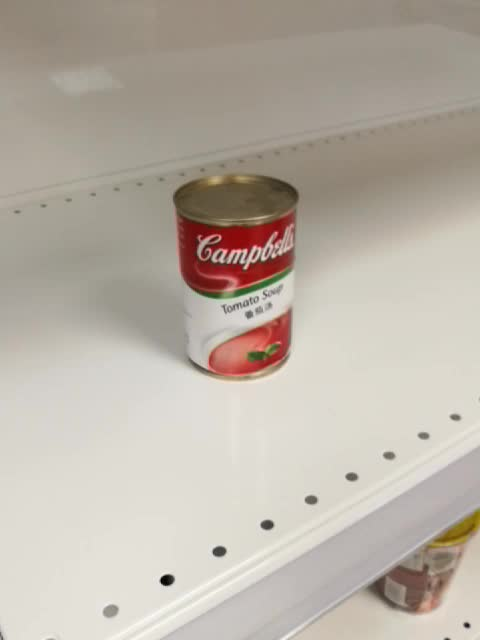tomatosoup: (172, 172, 302, 383)
